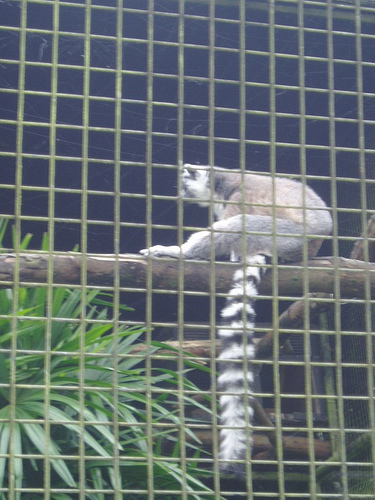cat: (133, 163, 335, 476)
